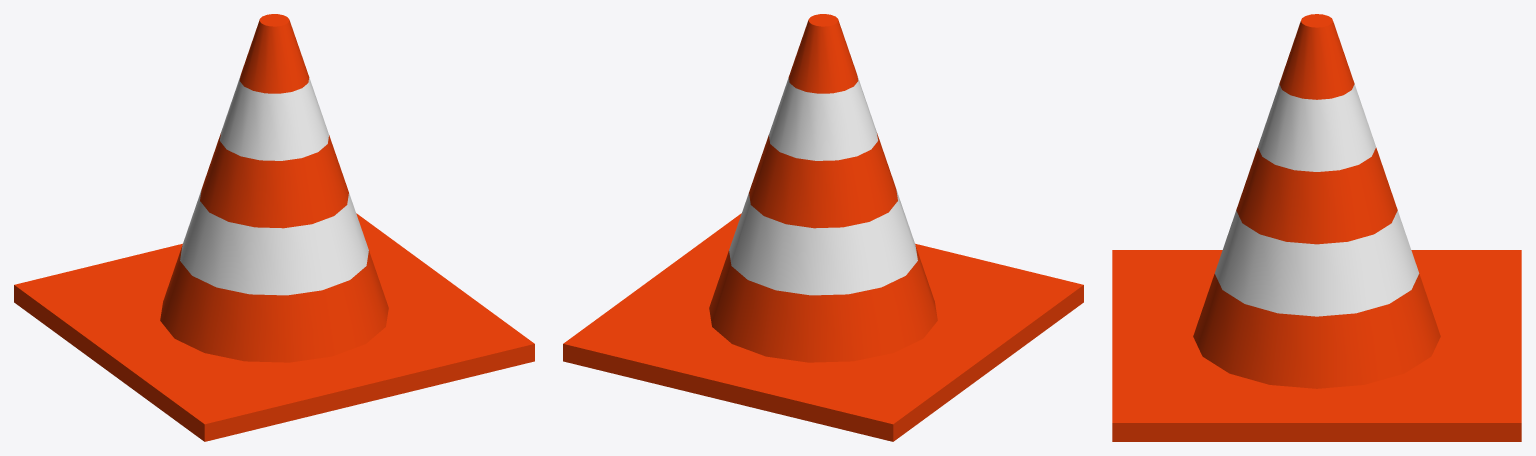
Rendered from equipment.glb.
3 views of the same model, side by side, from view 1: azimuth 30°, elevation 25°; view 2: azimuth 150°, elevation 25°; view 3: azimuth 270°, elevation 25° (orthographic). The views are drawn at different scales.
Visible parts, largest first — view 1: U97_Pylon; view 2: U97_Pylon; view 3: U97_Pylon.
Part boxes in pixels (bbox=[...]): U97_Pylon: bbox=[14, 14, 534, 441]; U97_Pylon: bbox=[563, 14, 1083, 441]; U97_Pylon: bbox=[1112, 14, 1521, 441].
Size of what is drawn, in the model's own units: 0.5287 by 0.477 by 0.5287.
